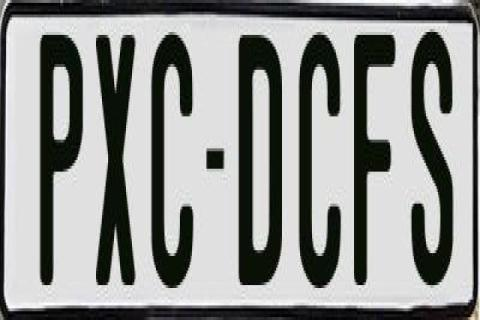C: (148, 27, 196, 297), (296, 23, 338, 280)
D: (236, 29, 278, 291)
F: (350, 29, 394, 288)
P: (36, 32, 82, 288)
S: (408, 23, 454, 285)
X: (92, 35, 138, 294)
